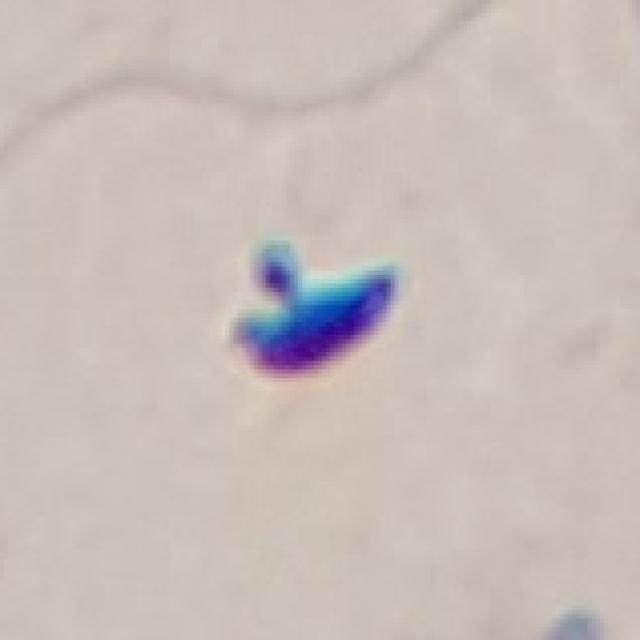non-sperm: (215, 228, 426, 400)
